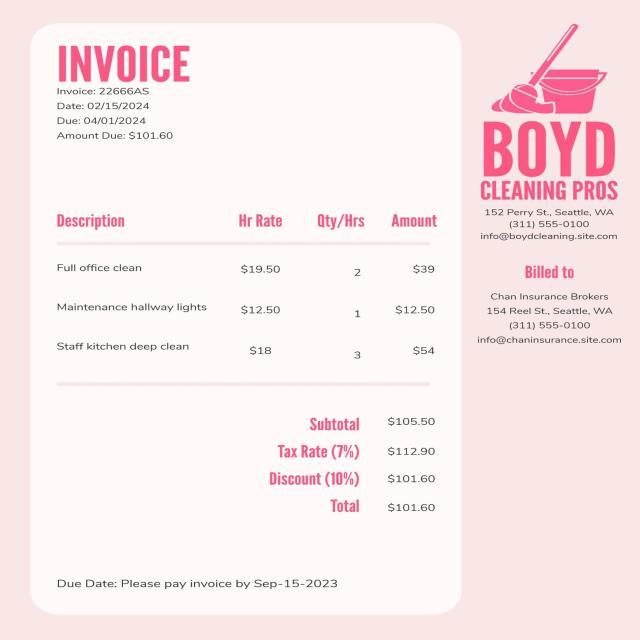ROI: (44, 206, 450, 362), (266, 402, 444, 520), (468, 113, 626, 244), (50, 37, 206, 145), (468, 261, 628, 347), (51, 571, 350, 595)
